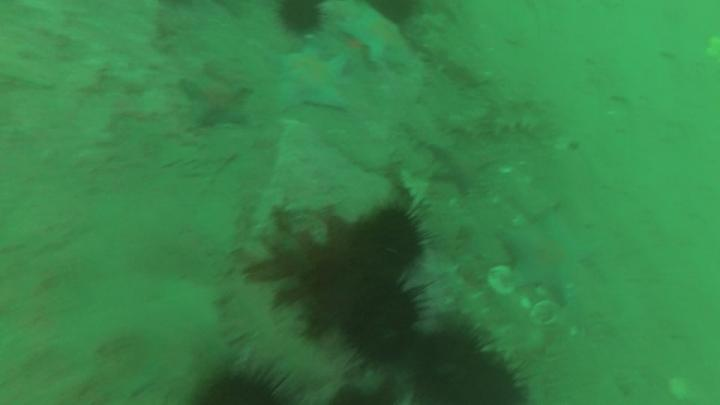echinus: (416, 334, 527, 405), (349, 286, 420, 361), (363, 213, 426, 268), (278, 3, 321, 35)
holothurian: (426, 34, 489, 91), (486, 104, 545, 139)
starfish: (501, 216, 594, 307), (265, 48, 347, 114), (341, 9, 408, 65), (181, 76, 250, 130), (428, 139, 490, 198)
